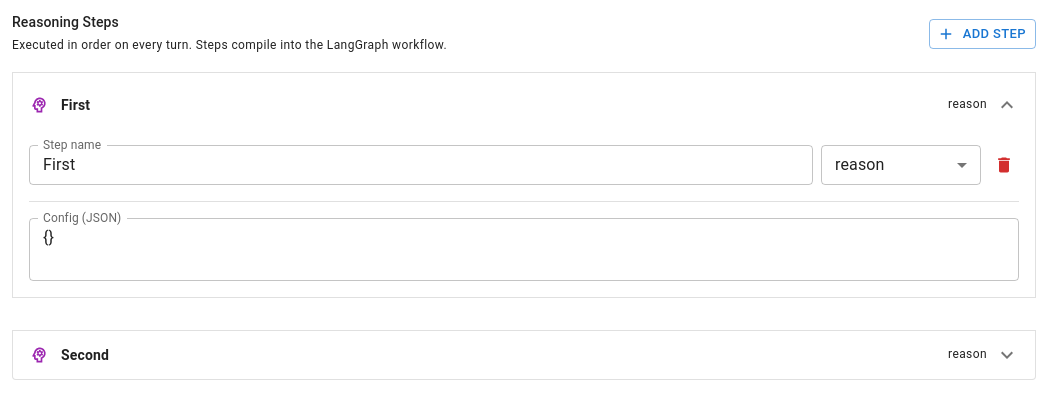
Test: StepEditor › expanding a step's summary collapses the previously expanded one
Click the text "Second" at [85, 355], box [61, 347, 109, 363]
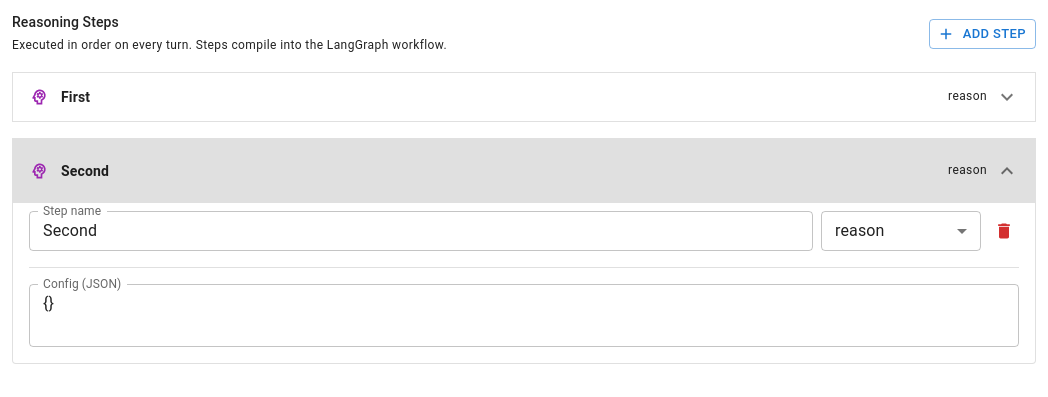
Expected: the button "First reason" is collapsed, [13, 73, 1035, 121]
Expected: the button "Second reason" is expanded, [13, 139, 1035, 203]
